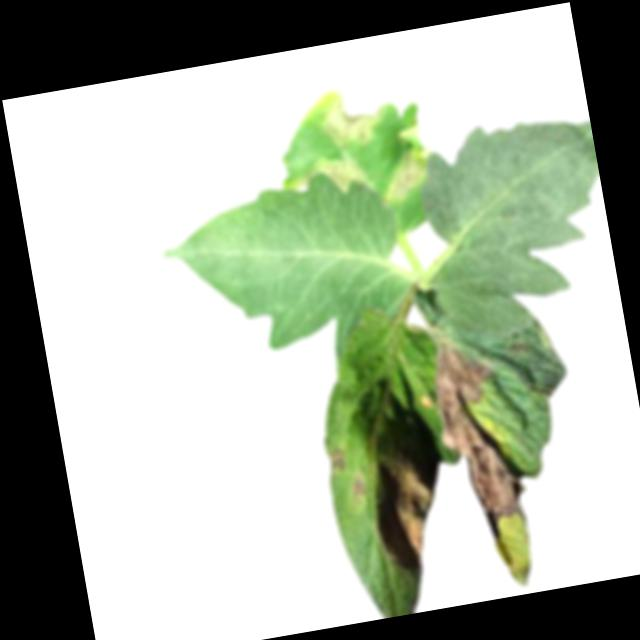Late_blight: (427, 337, 534, 546), (367, 448, 443, 578), (287, 148, 379, 203), (318, 85, 393, 150), (376, 140, 430, 204), (326, 443, 348, 474), (350, 472, 370, 498)
